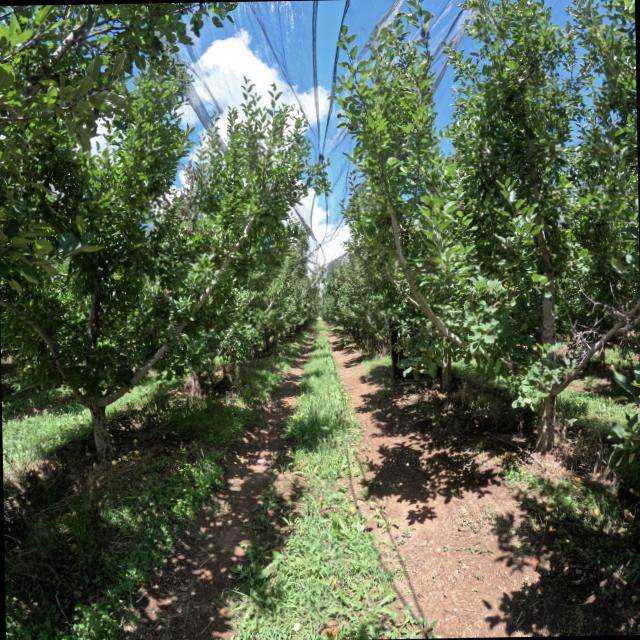-FireBlight-: (185, 159, 203, 188), (163, 286, 175, 299), (179, 206, 189, 217), (187, 198, 193, 207), (183, 187, 191, 193), (179, 193, 188, 198)
